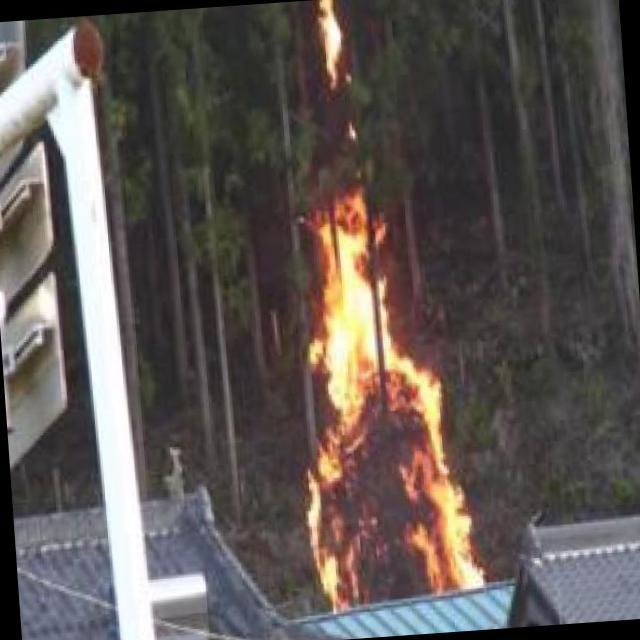Fire: (281, 185, 484, 614)
